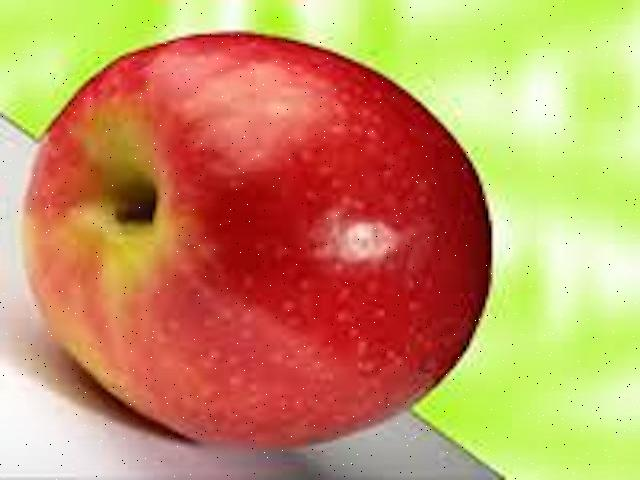apple: (19, 22, 500, 454)
